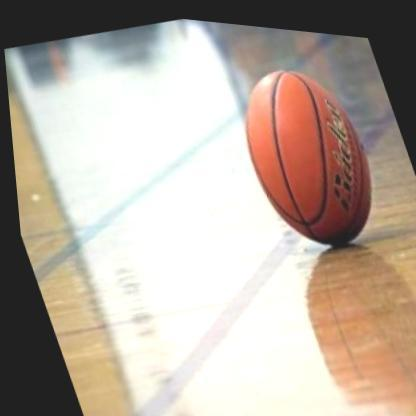basketball: (215, 34, 402, 263)
